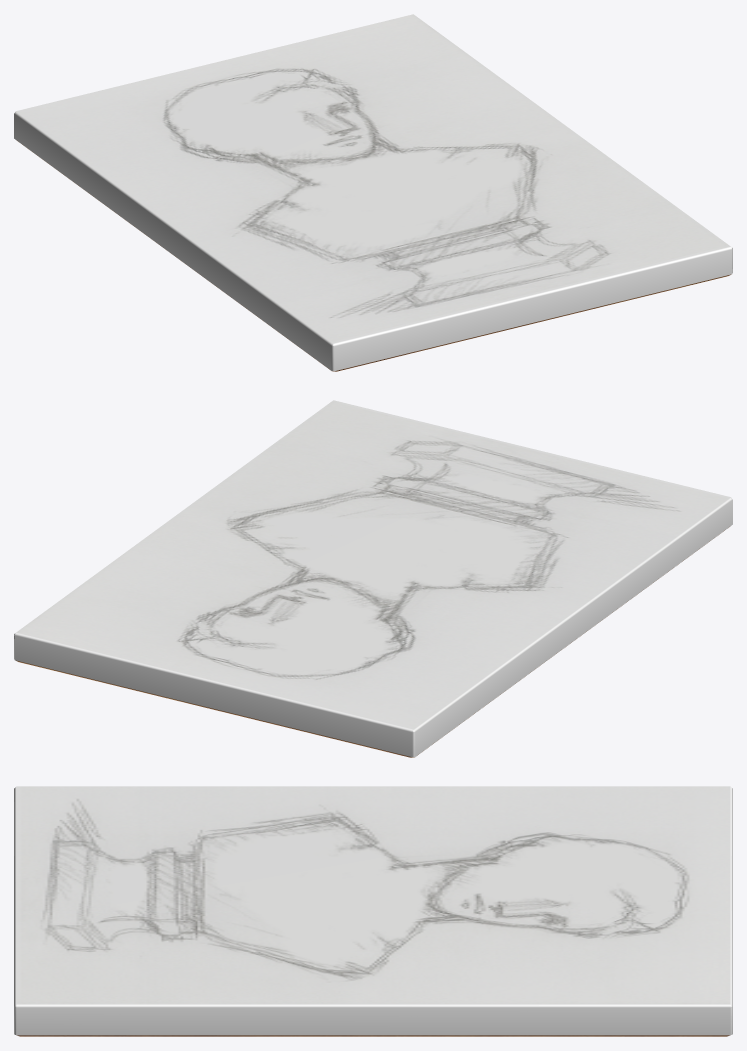
Rendered from SM_artpractice_sketch_01.fbx.
3 renders of one model, top to bottom at view 1: azimuth 30°, elevation 25°; view 2: azimuth 150°, elevation 25°; view 3: azimuth 270°, elevation 25°, orthographic. The views are drawn at different scales.
Visible parts, largest first — view 1: artpractice10; view 2: artpractice10; view 3: artpractice10.
Boxes of the visible parts, x1,y1,x2,y2 form: artpractice10: [14, 14, 732, 371]; artpractice10: [14, 400, 732, 757]; artpractice10: [14, 786, 732, 1036].
Size of the model in its own units: 20.71 by 1.43 by 28.57.
Materials: 2 (2 with a texture image).
